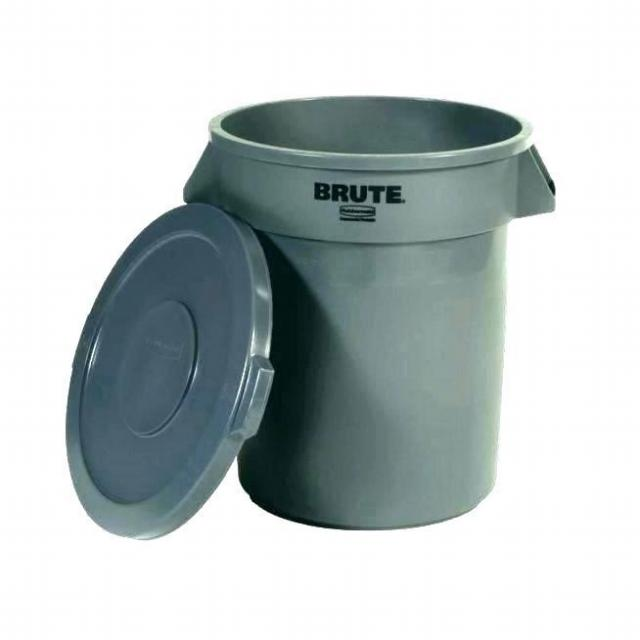plastic_bottle: (54, 66, 566, 553)
